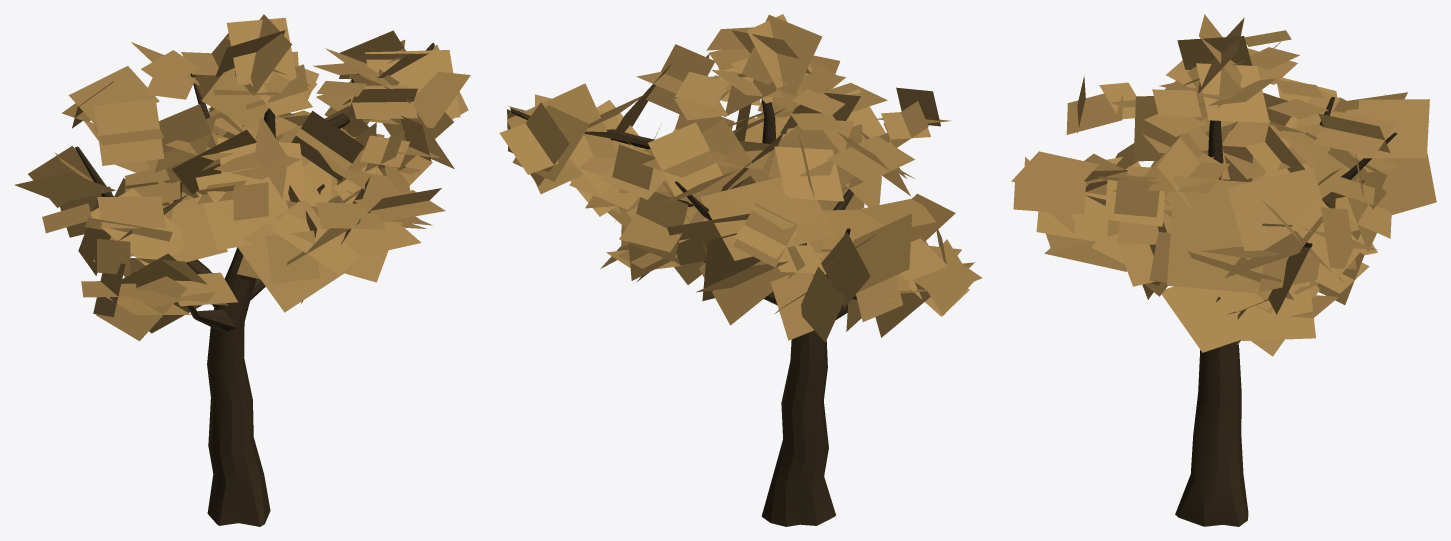
Rendered from Maple LOD 1.fbx.
3 renders of one model, left to right at view 1: azimuth 30°, elevation 25°; view 2: azimuth 150°, elevation 25°; view 3: azimuth 270°, elevation 25°, orthographic. The views are drawn at different scales.
Visible parts, largest first — view 1: Maple_LOD_1; view 2: Maple_LOD_1; view 3: Maple_LOD_1.
Part boxes in pixels (x1,y1,x2,y2): Maple_LOD_1: [15, 14, 470, 526]; Maple_LOD_1: [499, 14, 981, 526]; Maple_LOD_1: [1011, 14, 1436, 526].
Size of the model in its own units: 11.7 by 12.5 by 9.7.
